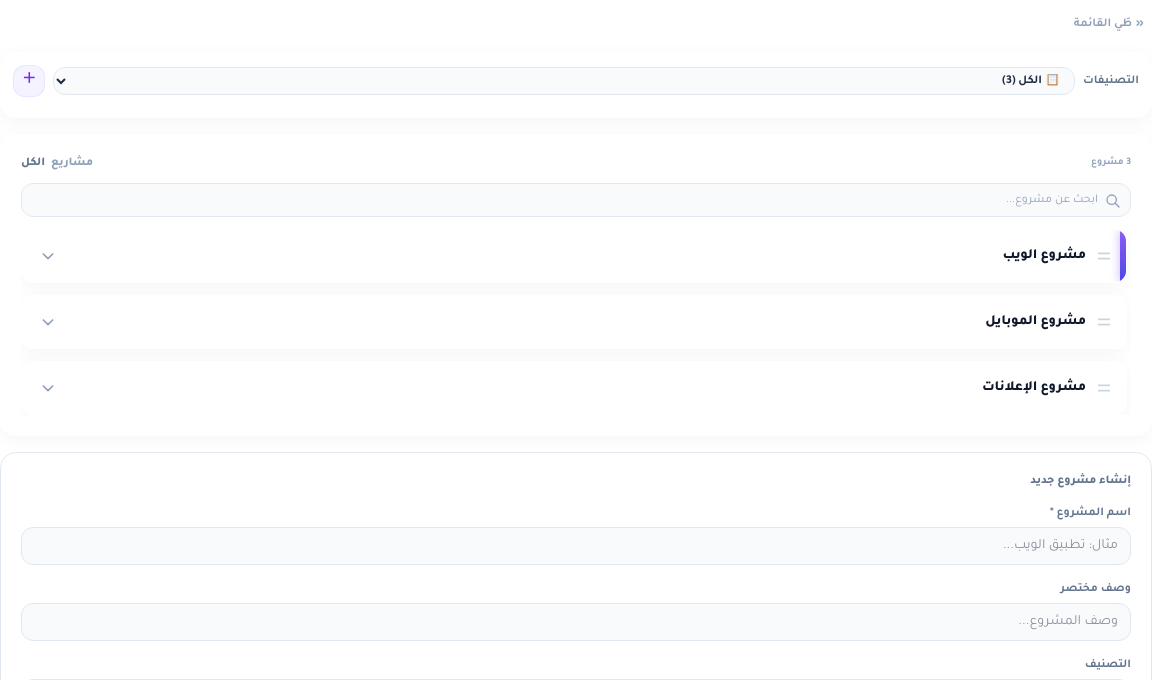
Test: ProjectPanel.vue Component Tests › displays correct task count for each project status badge when expanded
Expected: the button with class "glass-card-hover" showing "مشروع الويب" is shown, x1=21 y1=229 x2=1127 y2=283
Expected: the element with class "glass-card-hover" does not show "بانتظار البدء"
Click the button named "عرض تفاصيل المشروع" in the row of "مشروع الويب" at (48, 256), box x1=34 y1=242 x2=62 y2=270
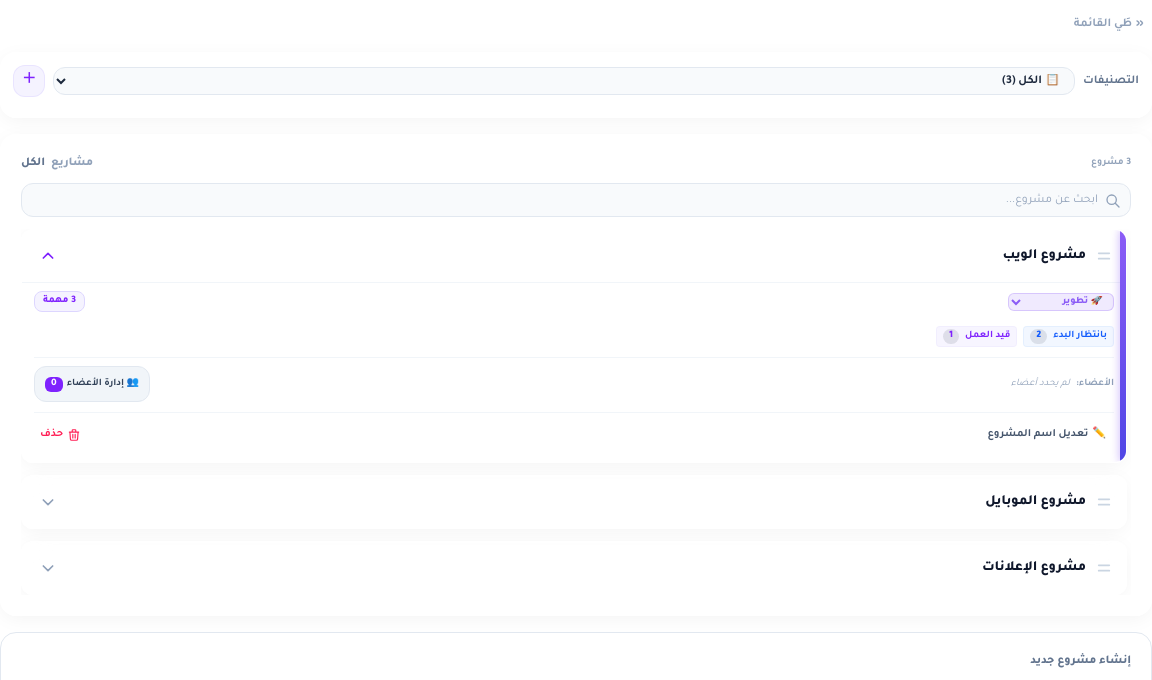
Expected: the button with class "glass-card-hover" shows "بانتظار البدء", x1=1053 y1=331 x2=1107 y2=341
Expected: the button with class "glass-card-hover" shows "2", x1=1036 y1=331 x2=1041 y2=341
Expected: the button with class "glass-card-hover" shows "قيد العمل", x1=965 y1=331 x2=1010 y2=341
